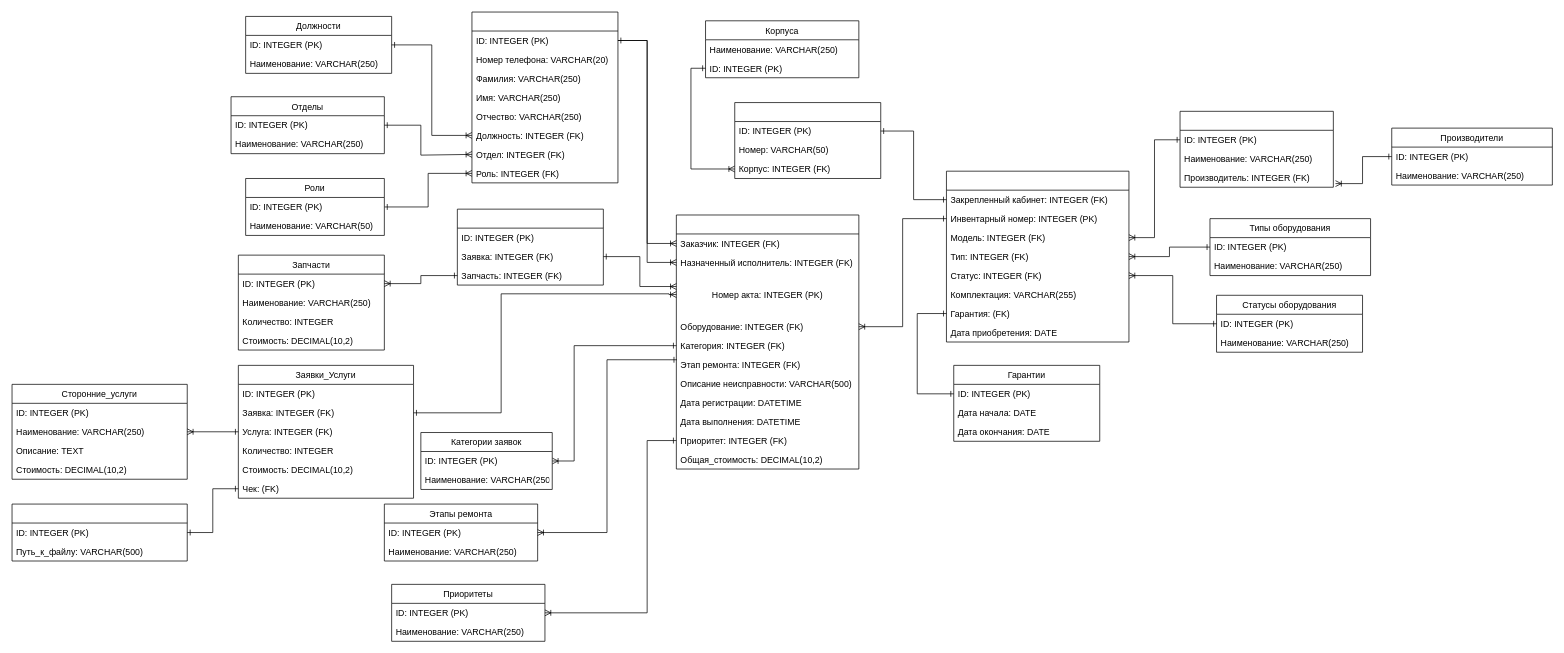
Image size: 1564x653. Some labels were removed from this diagram. The box of each missing label's shape, as (x1, y1, x2, y2) in pixels:
Заявки: (676, 214, 859, 469)
Заявки_Запчасти: (457, 208, 603, 285)
Кабинеты: (734, 102, 881, 178)
Модели оборудования: (1179, 111, 1333, 187)
Оборудование: (946, 170, 1129, 342)
Сотрудники: (471, 11, 618, 183)
Файлы: (11, 503, 187, 561)
